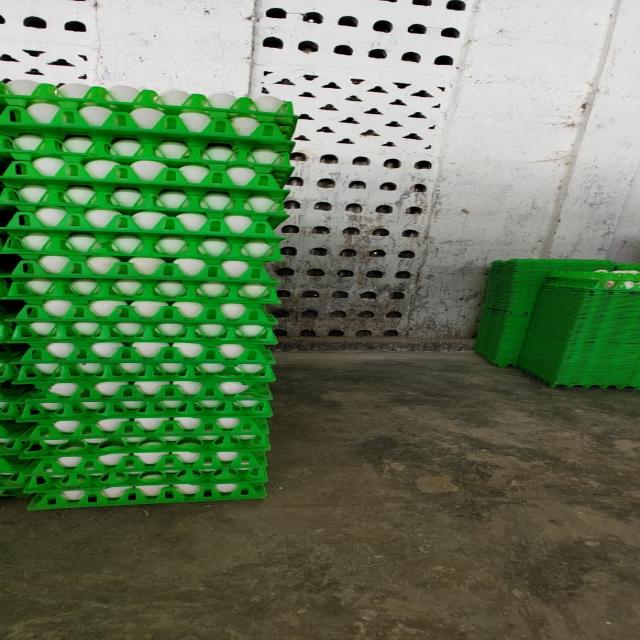egg_tray: (252, 0, 468, 339), (5, 209, 278, 303), (4, 214, 276, 303), (4, 300, 274, 384), (13, 300, 273, 382), (16, 342, 273, 420), (16, 342, 272, 420), (18, 342, 272, 420), (2, 157, 287, 226), (476, 272, 639, 379), (4, 201, 280, 264), (22, 412, 265, 481), (3, 200, 280, 260), (0, 80, 296, 136), (1, 207, 280, 266), (23, 436, 265, 504), (2, 208, 280, 265), (2, 157, 287, 212), (0, 133, 291, 186), (19, 444, 266, 505), (0, 182, 287, 234), (517, 268, 639, 388), (21, 416, 268, 475), (21, 452, 265, 508), (14, 342, 274, 394), (23, 358, 272, 412), (0, 102, 291, 148), (5, 256, 277, 304), (25, 452, 266, 505), (5, 298, 274, 345), (10, 252, 277, 298), (5, 300, 275, 345), (15, 340, 272, 386), (0, 133, 289, 172), (529, 270, 639, 372), (21, 431, 268, 476), (18, 340, 273, 383), (21, 433, 268, 476), (21, 436, 266, 478), (20, 434, 268, 475), (20, 380, 271, 420), (12, 300, 273, 338), (14, 300, 274, 338), (0, 230, 282, 265), (25, 380, 269, 418), (529, 281, 639, 364), (19, 340, 272, 376), (518, 313, 639, 388), (15, 388, 271, 422), (0, 0, 96, 82), (7, 276, 278, 304), (14, 362, 274, 391), (26, 466, 266, 497), (485, 259, 614, 313), (21, 416, 268, 444), (518, 331, 639, 388), (9, 184, 229, 214), (30, 482, 265, 510), (518, 336, 638, 389), (11, 322, 253, 346), (0, 311, 29, 493), (0, 302, 27, 494), (0, 384, 32, 496), (475, 308, 529, 366), (212, 166, 280, 212), (0, 300, 25, 408), (484, 274, 548, 314), (112, 160, 206, 186), (545, 268, 639, 294), (0, 419, 32, 495), (0, 419, 32, 494), (487, 279, 542, 316), (76, 342, 203, 358), (0, 271, 19, 362), (0, 440, 29, 496), (0, 301, 19, 382), (0, 412, 32, 460), (0, 264, 15, 361), (5, 156, 63, 179), (63, 160, 113, 186), (0, 454, 30, 496), (0, 455, 31, 495), (0, 420, 30, 457), (0, 382, 27, 423), (0, 303, 14, 381), (0, 456, 27, 496), (0, 382, 27, 421), (0, 342, 25, 384), (0, 454, 29, 489), (25, 342, 73, 360), (0, 416, 19, 456), (0, 472, 24, 497), (0, 472, 24, 496), (16, 282, 48, 298), (0, 474, 23, 496), (247, 327, 275, 344), (86, 210, 119, 224), (87, 213, 111, 230), (252, 148, 280, 162), (610, 295, 637, 308), (140, 221, 170, 232), (0, 314, 13, 338), (209, 145, 228, 161), (609, 264, 639, 274), (161, 140, 180, 154), (47, 420, 70, 430), (250, 348, 269, 360), (158, 360, 183, 369), (231, 218, 247, 232), (1, 256, 16, 270), (119, 140, 136, 152), (165, 452, 184, 462), (98, 454, 121, 462), (36, 162, 54, 171), (47, 217, 63, 227), (0, 278, 7, 298), (4, 256, 14, 270), (44, 210, 67, 216), (0, 279, 7, 298), (233, 400, 255, 406), (143, 212, 157, 220), (96, 261, 106, 272), (18, 370, 27, 382), (161, 401, 176, 408), (52, 342, 68, 348), (62, 456, 73, 464), (97, 342, 114, 347), (224, 344, 245, 348), (452, 2, 463, 9), (194, 363, 208, 368), (75, 140, 86, 146), (578, 363, 584, 374), (209, 363, 222, 368), (189, 405, 202, 410), (119, 206, 128, 213), (140, 212, 161, 215), (232, 172, 242, 178), (137, 452, 151, 456), (0, 372, 7, 380), (131, 224, 139, 231), (0, 370, 5, 381), (131, 343, 142, 348), (49, 394, 58, 400), (114, 343, 124, 348), (0, 285, 5, 295), (7, 257, 14, 264), (153, 418, 161, 424), (222, 386, 234, 390), (179, 343, 194, 346), (0, 284, 4, 295), (184, 214, 195, 218), (139, 452, 150, 456), (96, 212, 117, 214), (77, 420, 87, 424), (261, 175, 271, 179), (23, 136, 27, 146), (221, 345, 240, 347), (18, 378, 25, 383), (144, 403, 151, 408), (5, 386, 9, 394), (0, 470, 8, 474), (139, 452, 147, 456), (45, 175, 55, 178), (141, 386, 151, 389), (159, 343, 168, 346), (20, 267, 29, 270), (205, 403, 210, 408), (9, 256, 13, 262), (5, 402, 11, 406), (139, 354, 143, 360), (114, 194, 118, 200), (96, 262, 104, 265), (233, 204, 239, 208), (104, 384, 110, 388), (0, 405, 3, 412), (207, 172, 212, 176), (100, 418, 103, 424), (545, 296, 549, 300), (169, 194, 177, 196), (93, 426, 97, 430), (121, 228, 125, 232), (631, 264, 639, 266), (523, 282, 527, 286), (604, 325, 609, 328), (97, 262, 103, 264), (110, 362, 112, 368), (186, 418, 192, 420), (126, 417, 130, 420), (275, 219, 278, 223), (636, 356, 639, 360), (22, 272, 26, 275), (112, 202, 123, 203), (25, 425, 30, 427), (43, 356, 48, 358), (48, 357, 53, 359), (244, 474, 249, 476), (52, 421, 55, 424), (545, 300, 547, 304), (101, 128, 103, 132), (158, 458, 162, 460), (2, 400, 5, 402), (85, 404, 87, 407), (636, 360, 639, 362), (2, 282, 5, 284), (36, 499, 38, 502), (69, 451, 74, 452), (54, 256, 59, 257), (174, 231, 179, 232), (145, 458, 150, 459), (27, 425, 31, 426), (224, 202, 226, 204), (9, 416, 13, 417), (236, 220, 238, 222), (124, 456, 126, 458), (86, 504, 89, 505), (84, 407, 87, 408), (134, 214, 137, 215), (272, 216, 275, 217), (538, 336, 539, 339), (0, 276, 1, 278), (125, 217, 126, 219), (91, 262, 92, 264), (4, 413, 5, 415), (277, 207, 278, 209), (98, 266, 99, 268), (28, 353, 29, 355), (187, 139, 188, 141), (115, 385, 116, 387), (166, 447, 168, 448), (253, 476, 254, 478), (183, 367, 184, 368), (196, 403, 197, 404), (13, 167, 14, 168), (100, 387, 101, 388), (12, 466, 13, 466), (602, 314, 604, 314), (86, 505, 89, 505), (265, 239, 266, 239), (199, 221, 200, 221), (246, 174, 247, 174), (202, 372, 204, 372), (65, 408, 66, 408), (153, 407, 154, 407), (146, 381, 148, 381), (128, 363, 130, 363), (220, 430, 221, 430), (9, 470, 10, 470), (97, 272, 98, 272), (231, 345, 232, 345), (282, 192, 282, 192), (31, 141, 32, 141), (33, 105, 36, 105), (65, 421, 67, 421), (292, 186, 292, 188), (6, 348, 8, 348), (170, 500, 170, 500), (86, 461, 89, 461), (154, 456, 155, 456), (546, 276, 548, 276)
